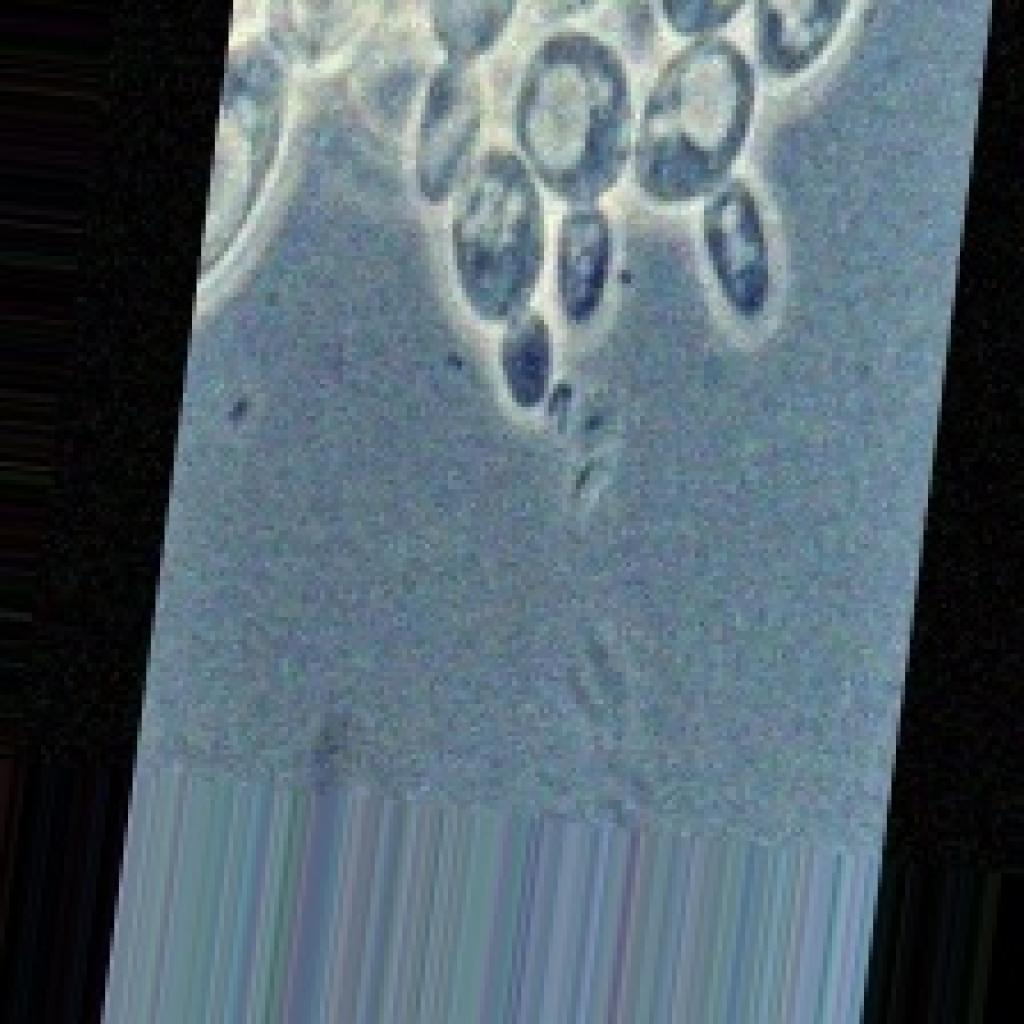Yeast: (63, 0, 1019, 1019)
